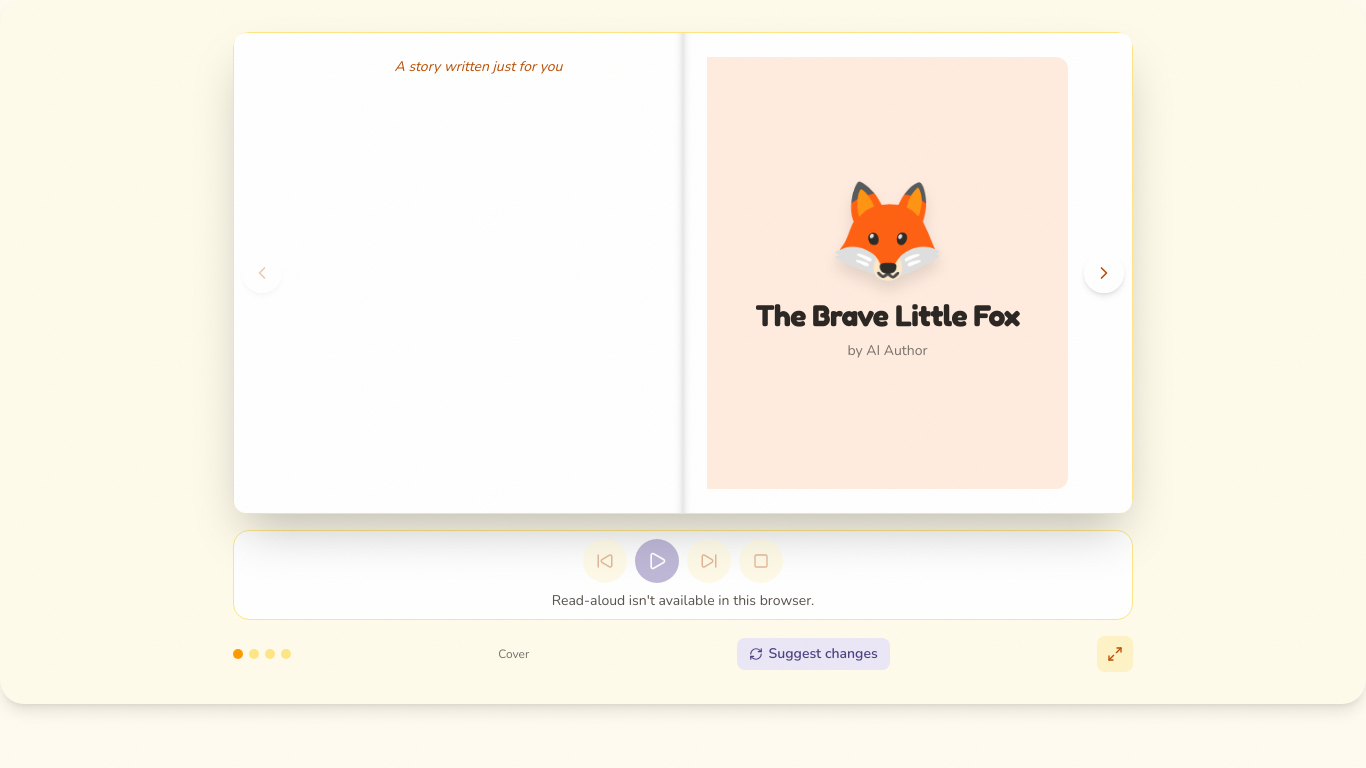
BookSpread — orphaned illustration recovery › offers every surviving version of a page that has no current image
Step 1. Click the button named "Next spread" → (1104, 273), box [1084,253,1124,293]
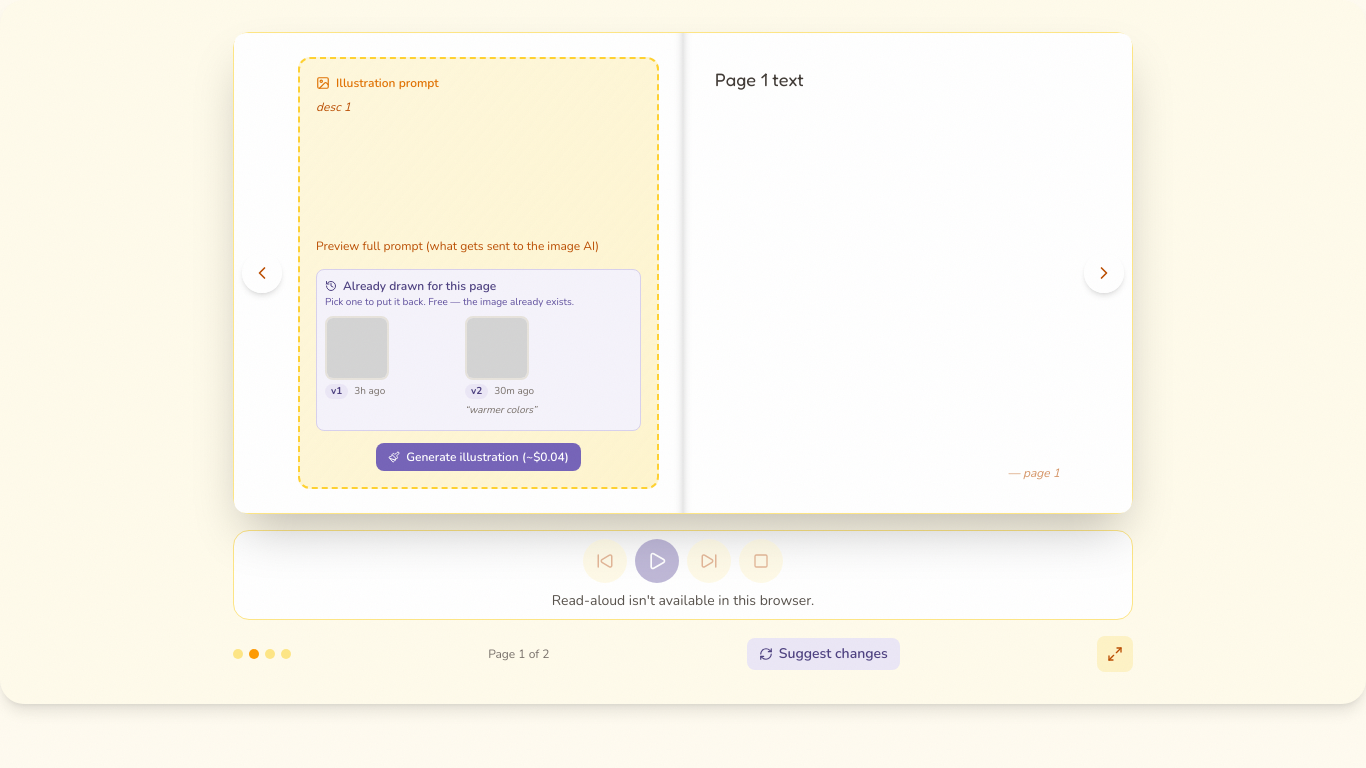
Expected: the text with test id "spread-position" reads "Page 1 of 2", [488,646,550,662]
Expected: the element with test id "orphan-restore" is shown, [316,269,641,431]
Expected: the text "“warmer colors”" is shown, [465,403,537,417]
